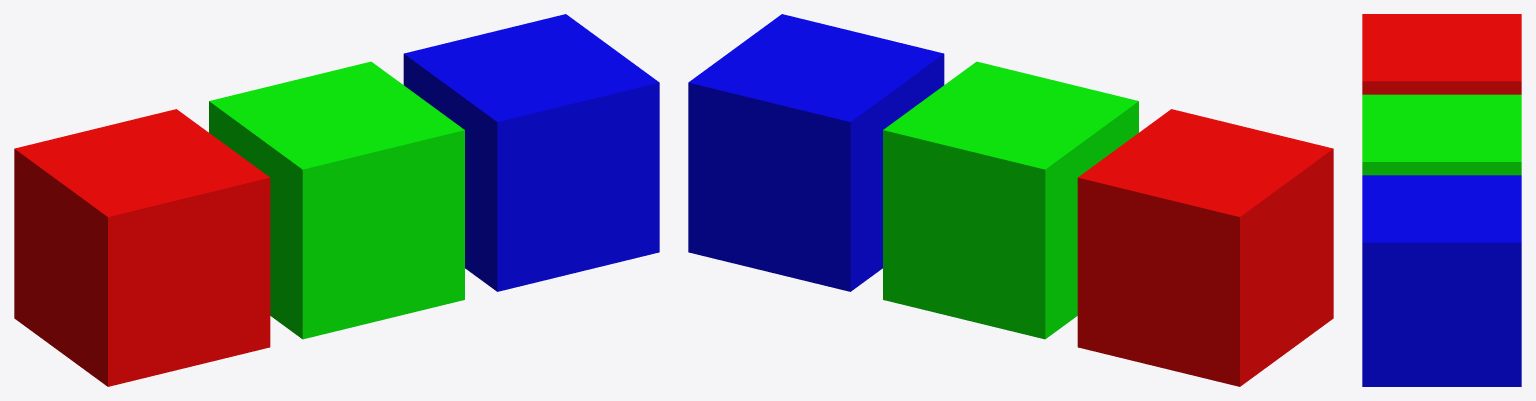
Rendered from three_materials.glb.
3 renders of one model, left to right at view 1: azimuth 30°, elevation 25°; view 2: azimuth 150°, elevation 25°; view 3: azimuth 270°, elevation 25°, orthographic. The views are drawn at different scales.
Parts seen in each view (by area): view 1: lamps; view 2: lamps; view 3: lamps.
Boxes of the visible parts, x1,y1,x2,y2 form: lamps: (14,14,659,386); lamps: (688,14,1333,386); lamps: (1362,14,1521,386).
Size of the model in its own units: 34 by 10 by 10.
